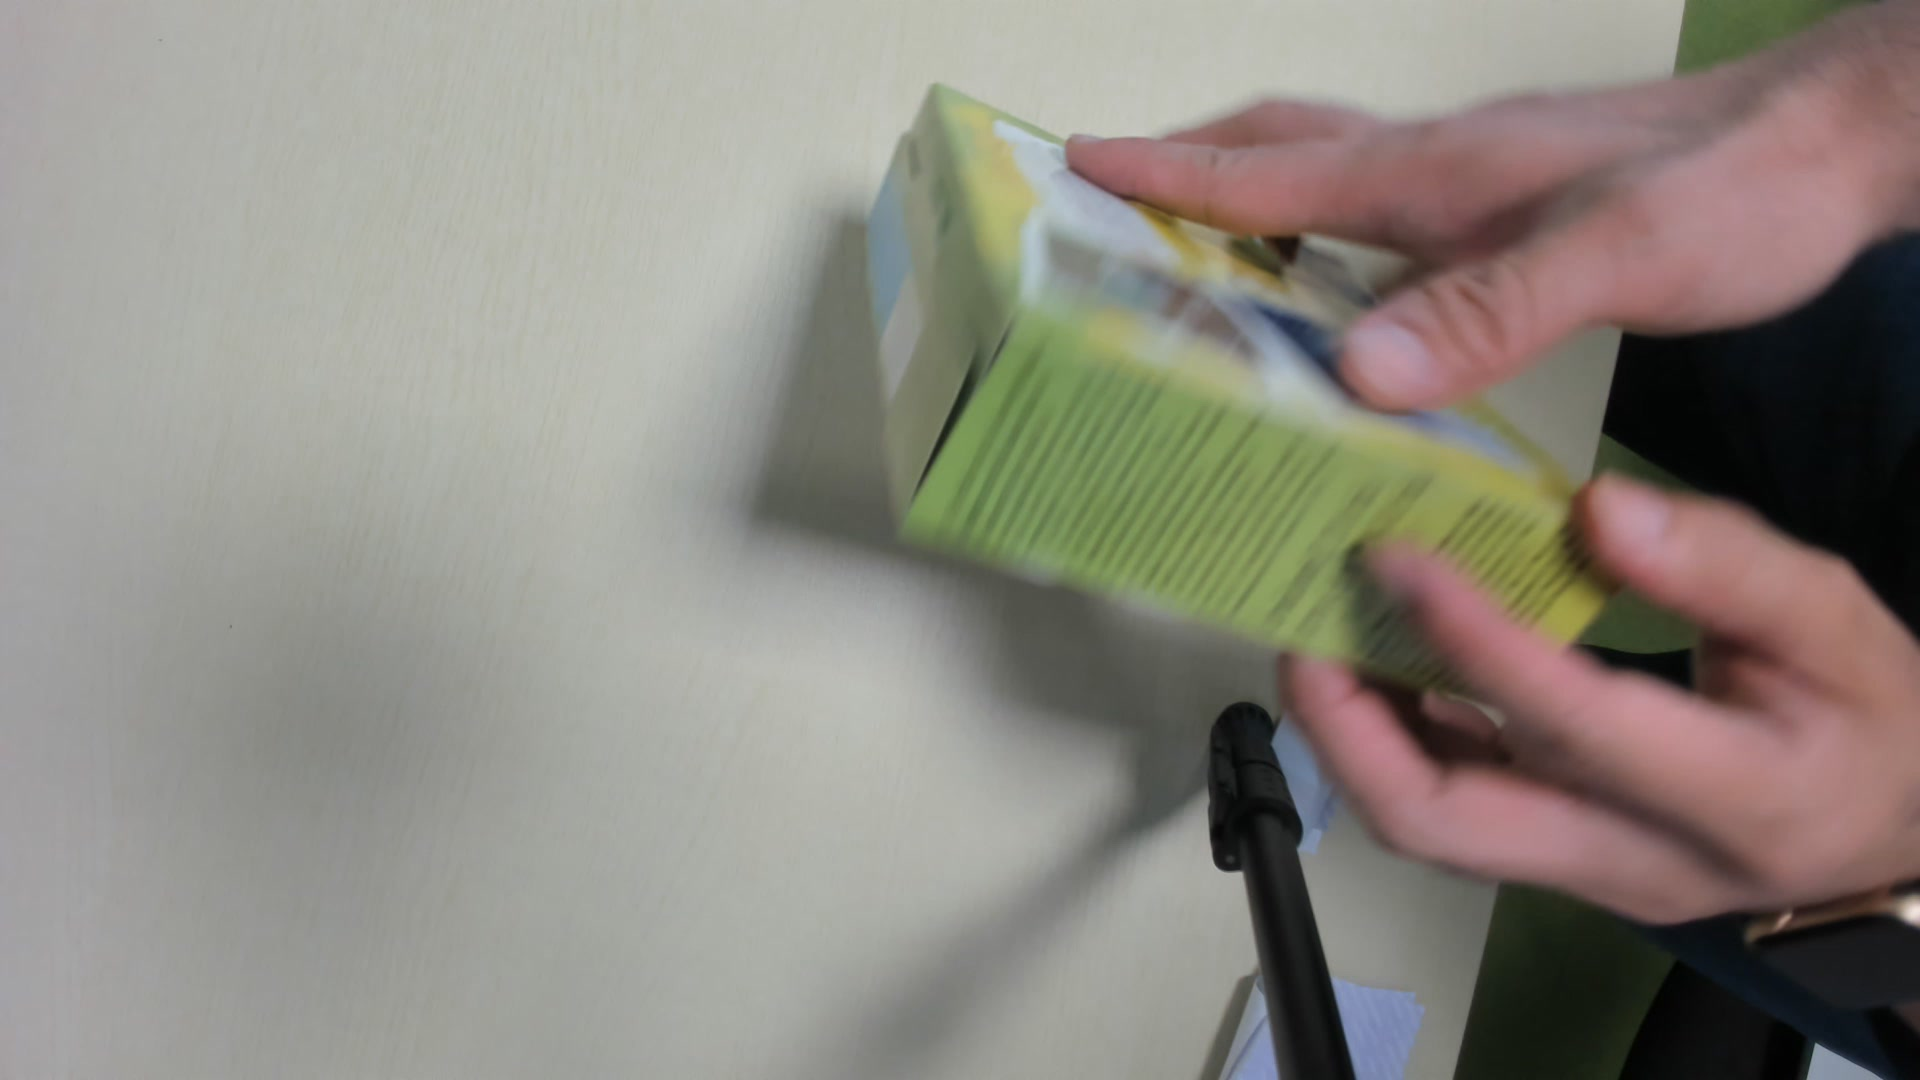SweetsChocolatesOthers_200-299g_Halal_Nonhealthy: (864, 90, 1607, 694)
